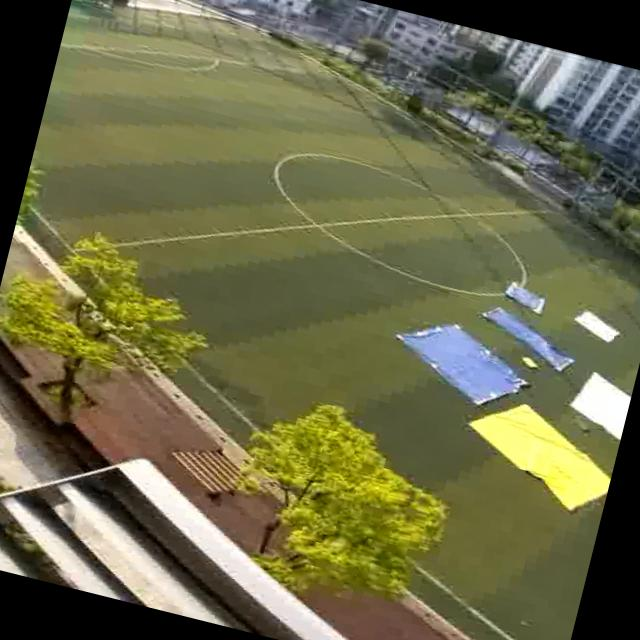danger: (412, 320, 512, 404), (494, 311, 554, 353), (498, 276, 554, 320)
safety: (562, 364, 635, 444), (566, 303, 626, 345)
warning: (472, 408, 612, 510)
